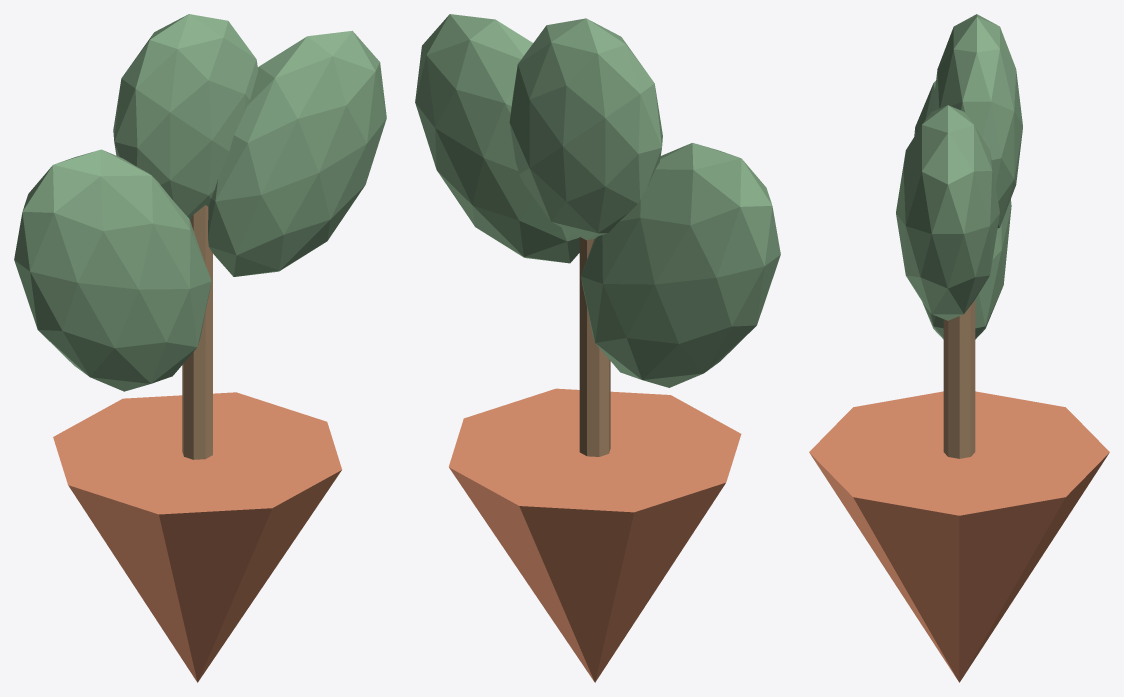
3 views of the same model, side by side, from view 1: azimuth 30°, elevation 25°; view 2: azimuth 150°, elevation 25°; view 3: azimuth 270°, elevation 25° (orthographic).
Visible parts, largest first — view 1: Pot, Leaf.A, Leaf.B, Leaf.C, Stem; view 2: Pot, Leaf.A, Leaf.C, Leaf.B, Stem; view 3: Pot, Leaf.B, Leaf.C, Stem, Leaf.A.
Part boxes in pixels (x1,y1,x2,y2): Pot: (53, 392, 341, 682); Leaf.A: (14, 149, 211, 391); Leaf.B: (208, 30, 386, 276); Leaf.C: (113, 14, 258, 220); Stem: (182, 205, 212, 459); Pot: (449, 388, 741, 682); Leaf.A: (581, 143, 780, 387); Leaf.C: (509, 18, 662, 240); Leaf.B: (415, 14, 579, 263); Stem: (579, 237, 610, 456); Pot: (809, 391, 1109, 682); Leaf.B: (896, 105, 999, 320); Leaf.C: (932, 14, 1022, 228); Stem: (943, 300, 975, 458); Leaf.A: (914, 81, 1011, 339).
Size of the model in its own units: 0.7065 by 1.27 by 0.52.
